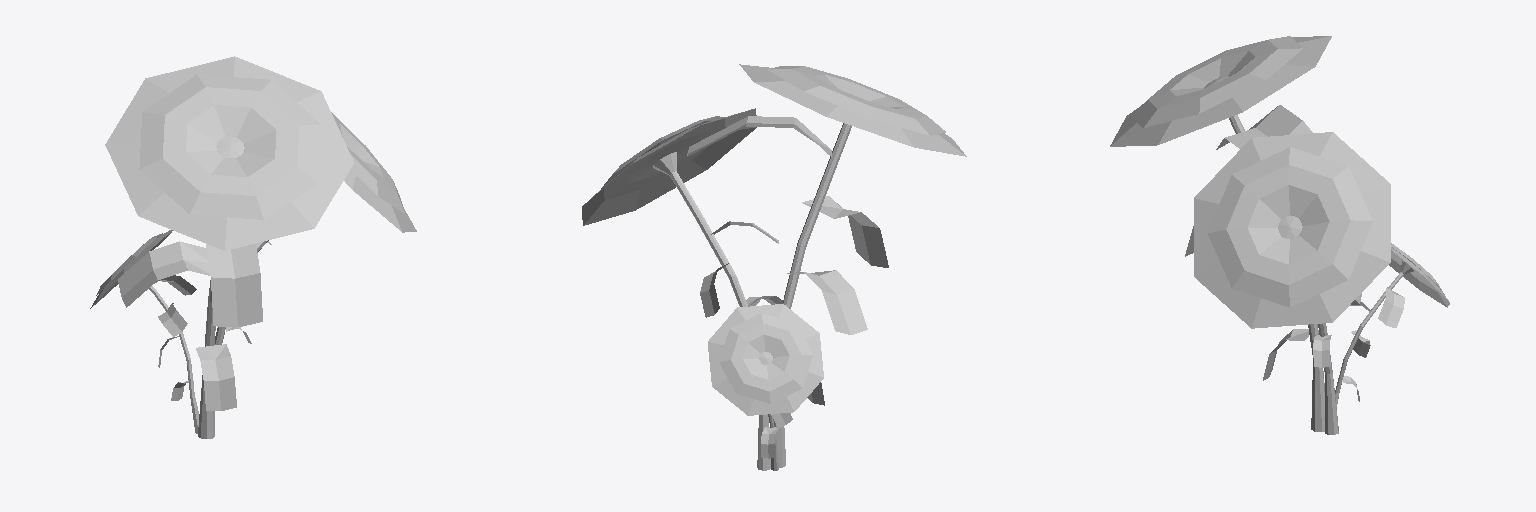
The model's file is FlowerA_02.obj.
3 views of the same model, side by side, from view 1: azimuth 30°, elevation 25°; view 2: azimuth 150°, elevation 25°; view 3: azimuth 270°, elevation 25° (orthographic).
Parts seen in each view (by area): view 1: FlowerA_02_FlowerA_02_LOD0.000; view 2: FlowerA_02_FlowerA_02_LOD0.000; view 3: FlowerA_02_FlowerA_02_LOD0.000.
Boxes of the visible parts, x1=… form: FlowerA_02_FlowerA_02_LOD0.000: x1=90, y1=56, x2=416, y2=438; FlowerA_02_FlowerA_02_LOD0.000: x1=582, y1=64, x2=966, y2=470; FlowerA_02_FlowerA_02_LOD0.000: x1=1110, y1=36, x2=1449, y2=434.
Bounding box in the file's own units: 0.5193 × 0.5872 × 0.4838.